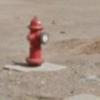a fire hydrant: (27, 18, 48, 66)
